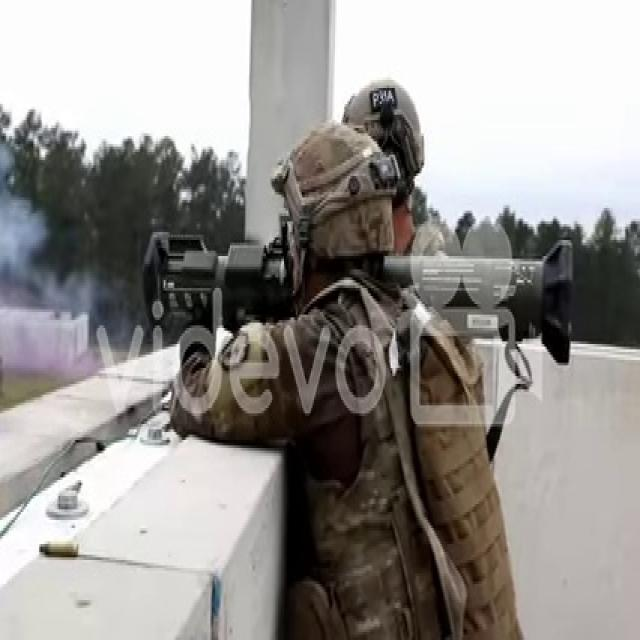bazooka: (143, 223, 584, 378)
